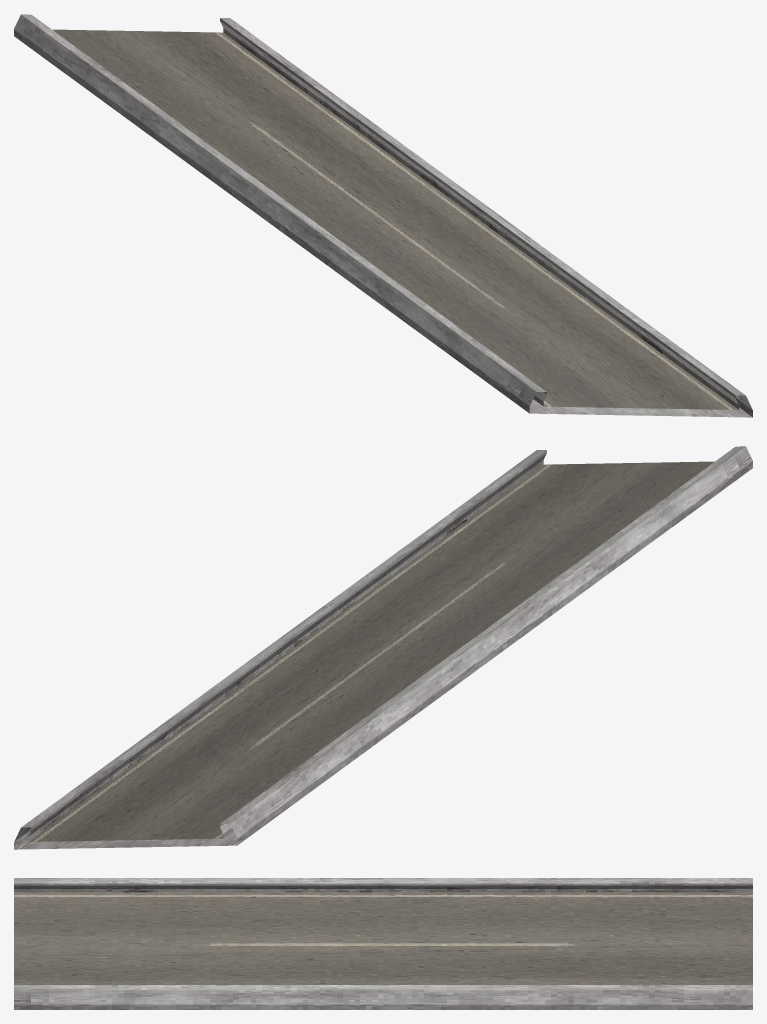
File: road-Straight-HalfBankedRight-HalfBankedRight-Even-Center-Size4.glb
3 views of the same model, one above another, from view 1: azimuth 30°, elevation 25°; view 2: azimuth 150°, elevation 25°; view 3: azimuth 270°, elevation 25° (orthographic). The views are drawn at different scales.
Visible parts, largest first — view 1: road-Straight-HalfBankedRight-HalfBankedRight-Even-Center-Si; view 2: road-Straight-HalfBankedRight-HalfBankedRight-Even-Center-Si; view 3: road-Straight-HalfBankedRight-HalfBankedRight-Even-Center-Si.
Boxes of the visible parts, x1=… form: road-Straight-HalfBankedRight-HalfBankedRight-Even-Center-Si: x1=14, y1=14, x2=752, y2=417; road-Straight-HalfBankedRight-HalfBankedRight-Even-Center-Si: x1=14, y1=446, x2=752, y2=849; road-Straight-HalfBankedRight-HalfBankedRight-Even-Center-Si: x1=14, y1=878, x2=752, y2=1009.
Bounding box in the file's own units: 1 × 0.3359 × 4.
Materials: 2 (2 with a texture image).
